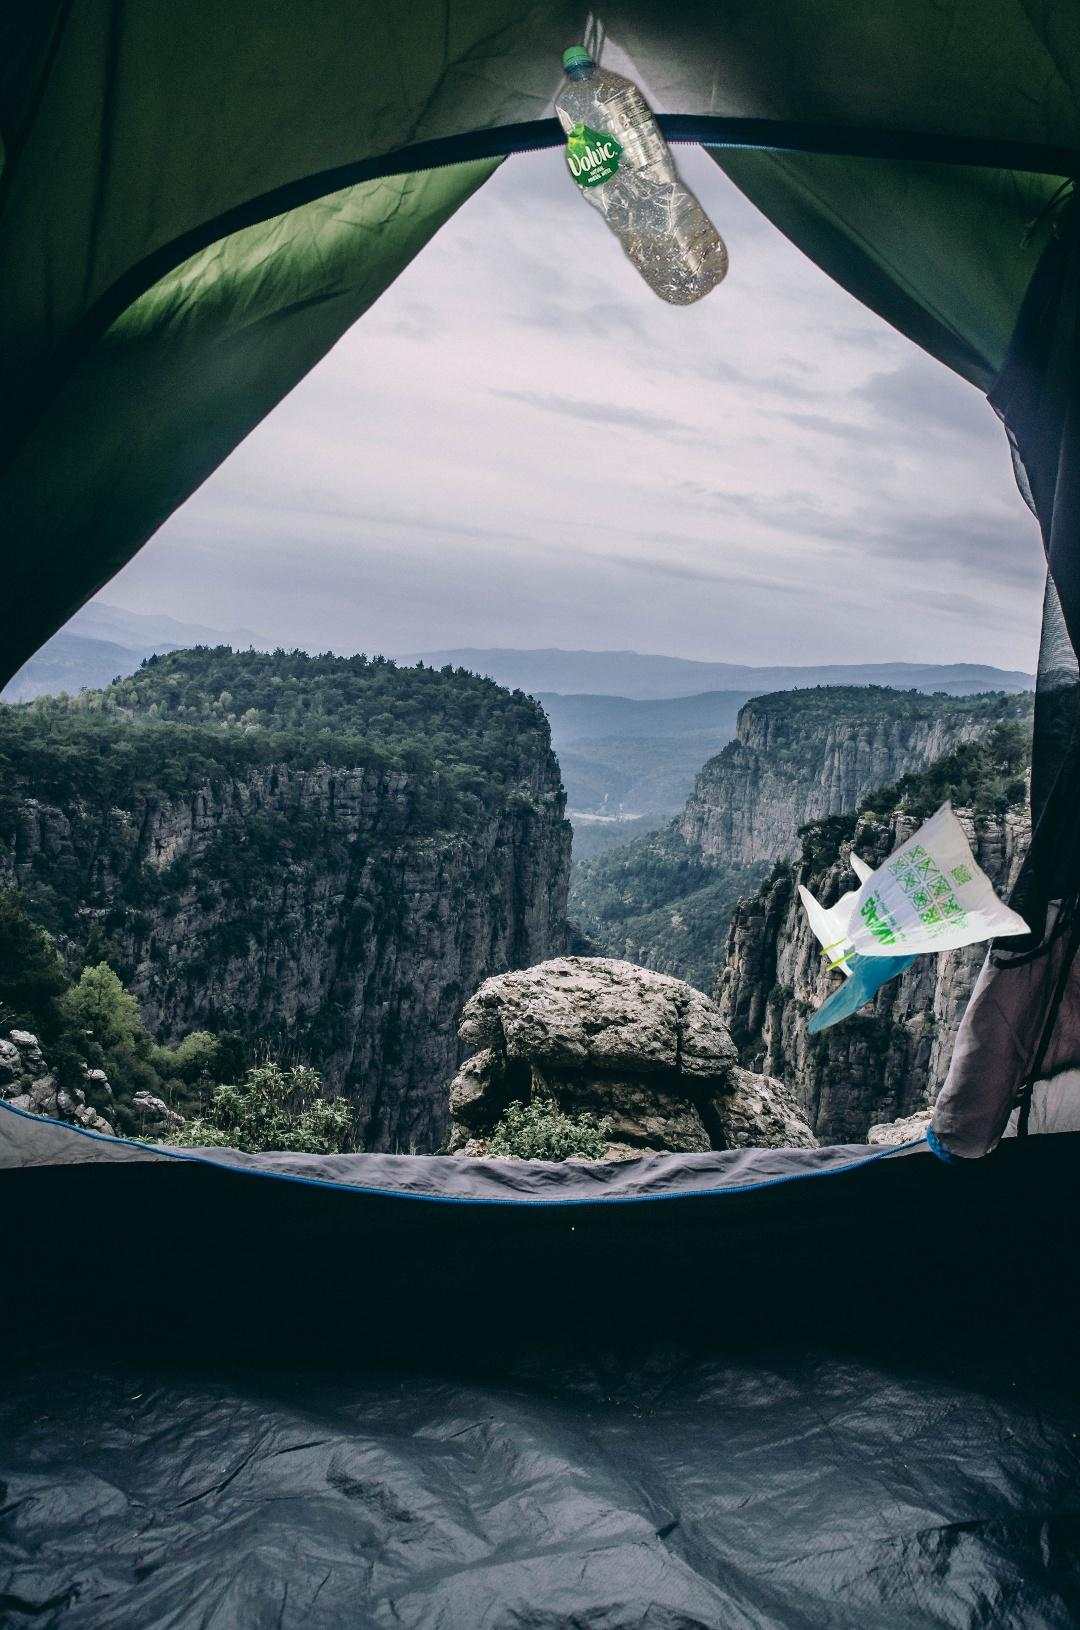plastic-bag: (796, 794, 1039, 1040)
plastic-bottles: (544, 39, 732, 311)
